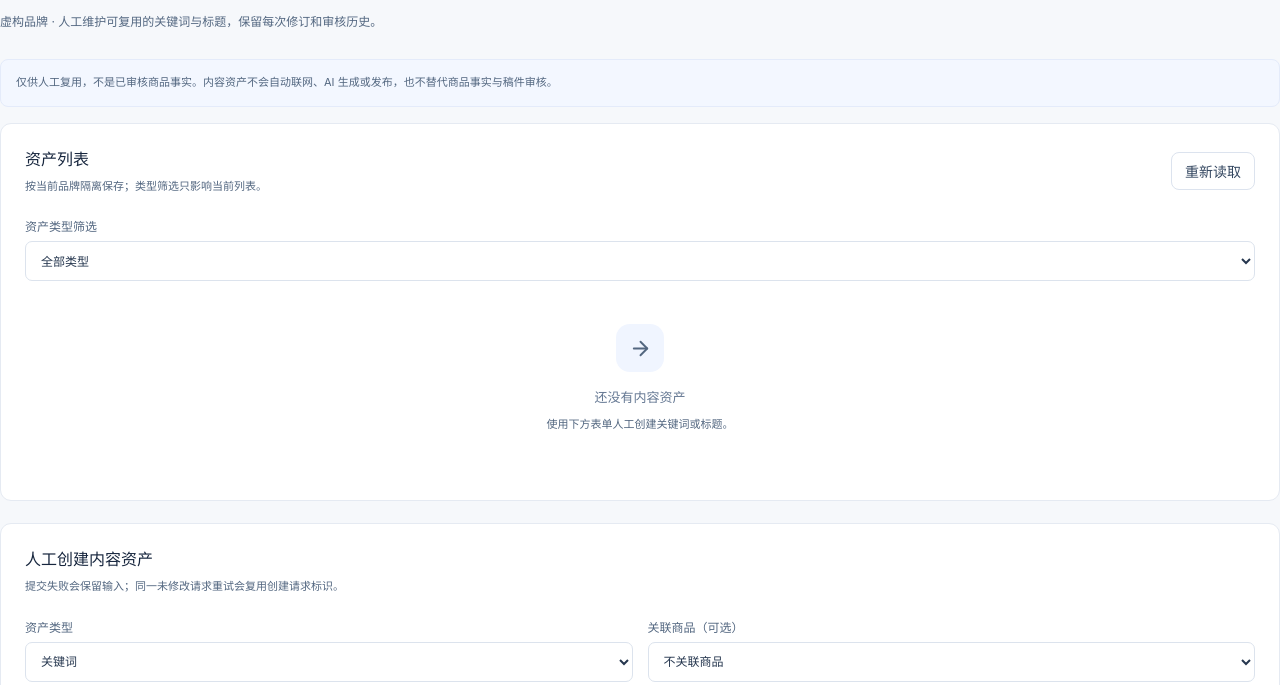
Test: creates_pending_asset_with_stable_request_id_and_does_not_review_or_publish
Expected: the heading "还没有内容资产" is shown, [594,387,686,408]
Select "标题" in the dropdown labelled "资产类型" at coordinates (329, 662), box [25,642,632,682]
(page scrolled)
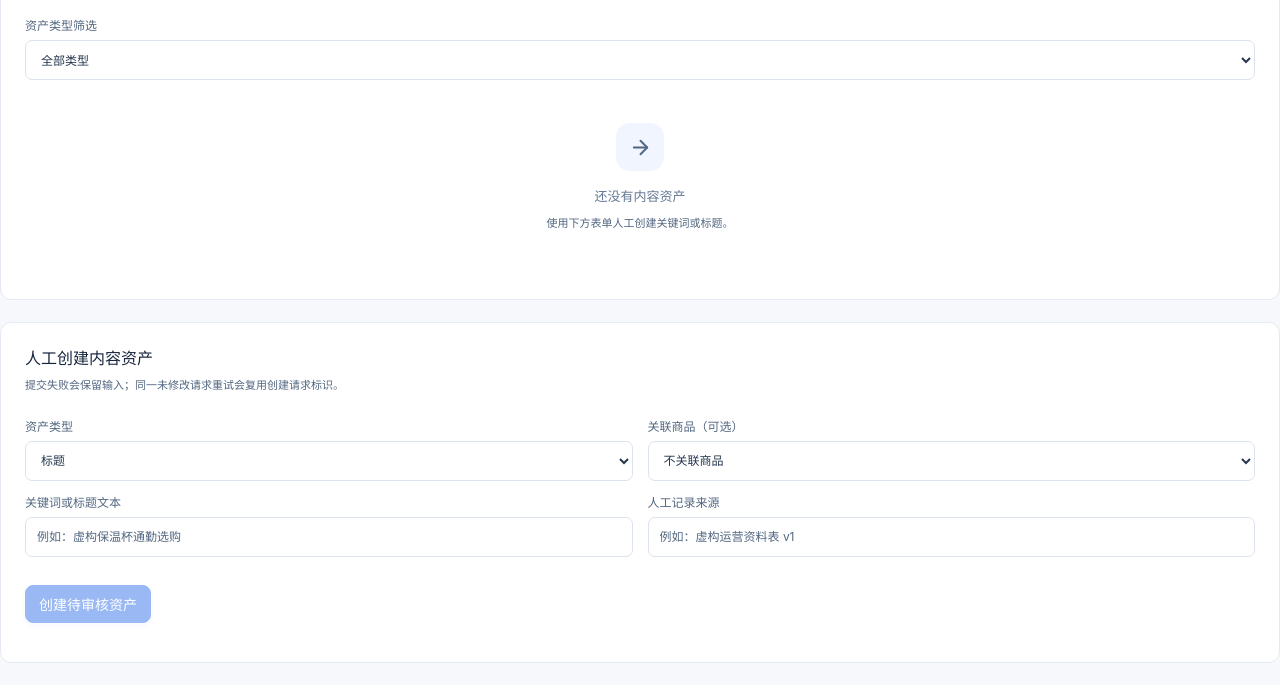
Type "虚构人工标题" into the field labelled "关键词或标题文本" at coordinates (329, 537), box [25,517,632,557]
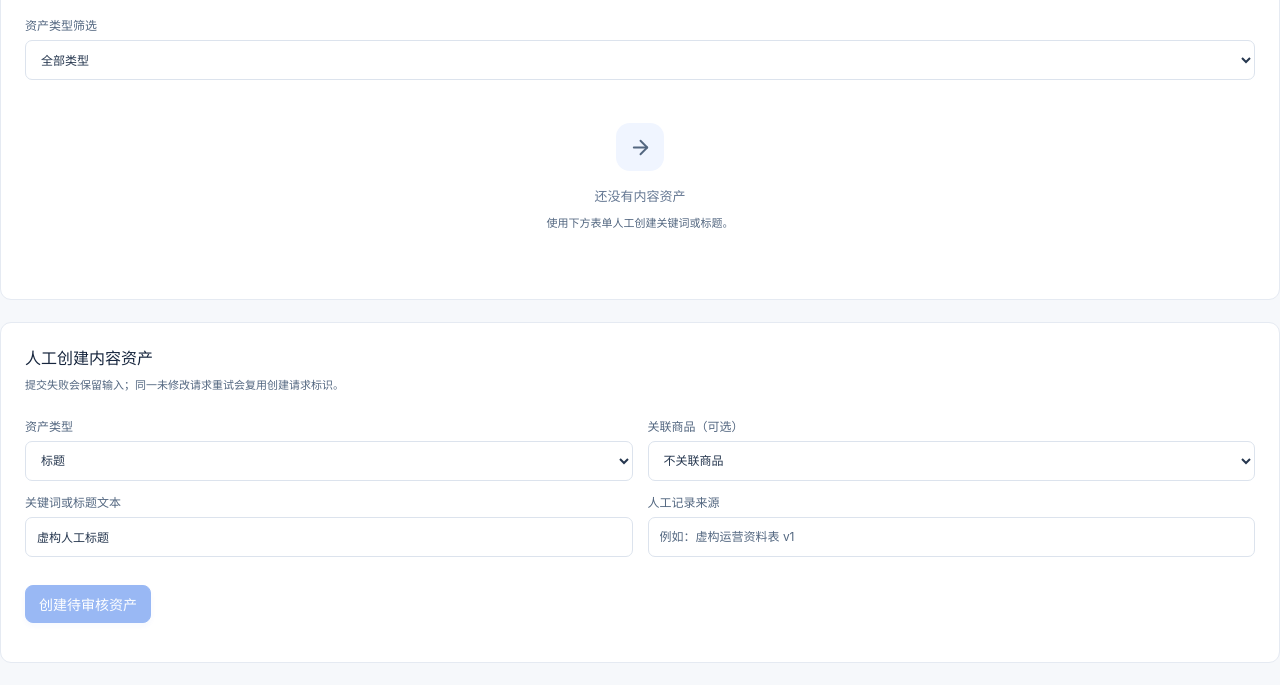
Type "虚构标题资料" into the field labelled "人工记录来源" at coordinates (951, 537), box [648,517,1255,557]
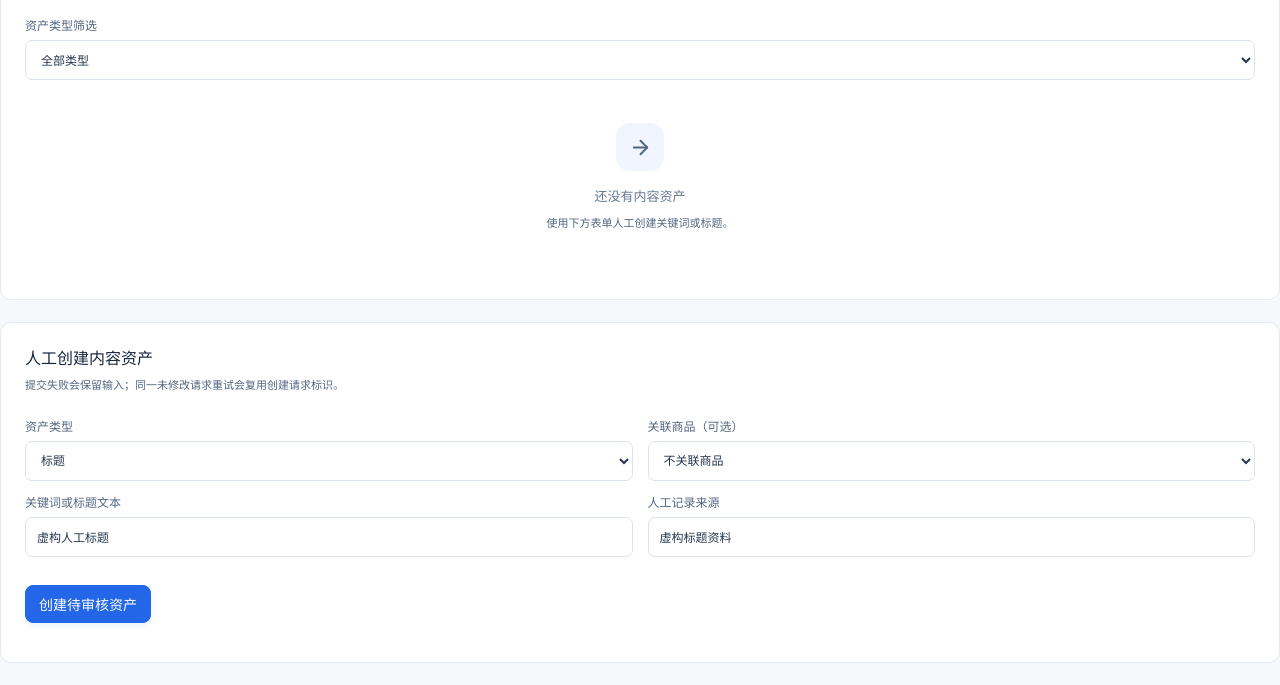
Click the button "创建待审核资产" at coordinates (88, 604), box [25,585,151,623]
(page scrolled)
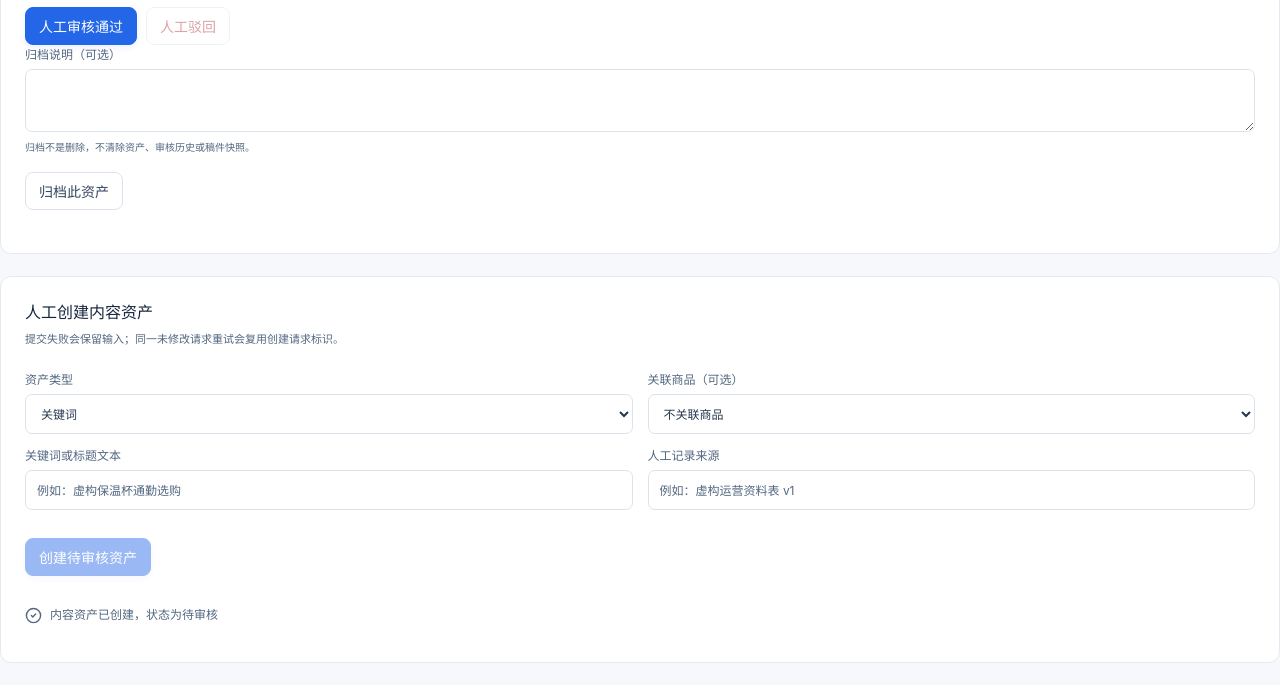
Expected: the text "内容资产已创建，状态为待审核" is shown, [25,607,218,624]
Expected: the field labelled "关键词或标题文本" is empty, [25,470,632,510]
